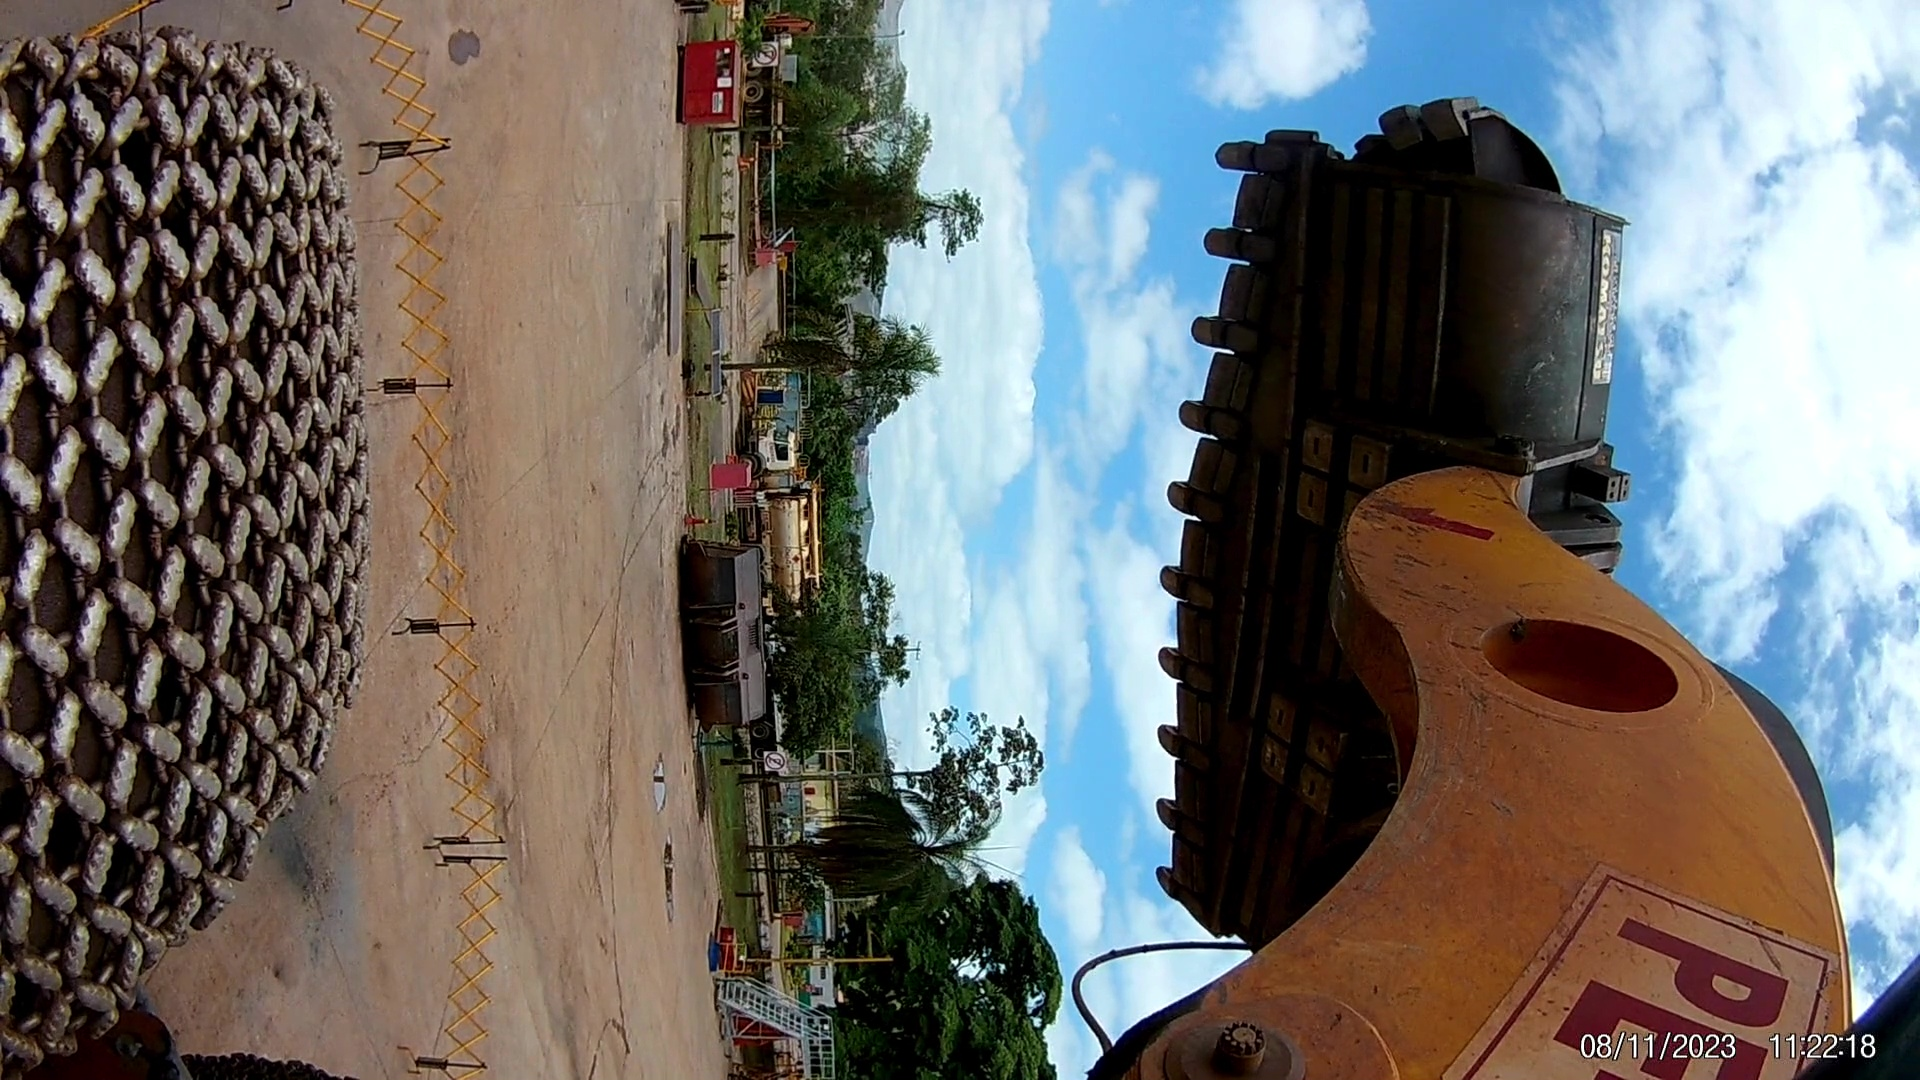FPS: (1118, 560, 1226, 618), (1131, 705, 1230, 769), (1149, 398, 1255, 450), (1145, 638, 1232, 698), (1192, 219, 1287, 269), (1178, 305, 1255, 365), (1149, 775, 1211, 848), (1158, 476, 1232, 534), (1193, 138, 1302, 175), (1147, 865, 1208, 915)
